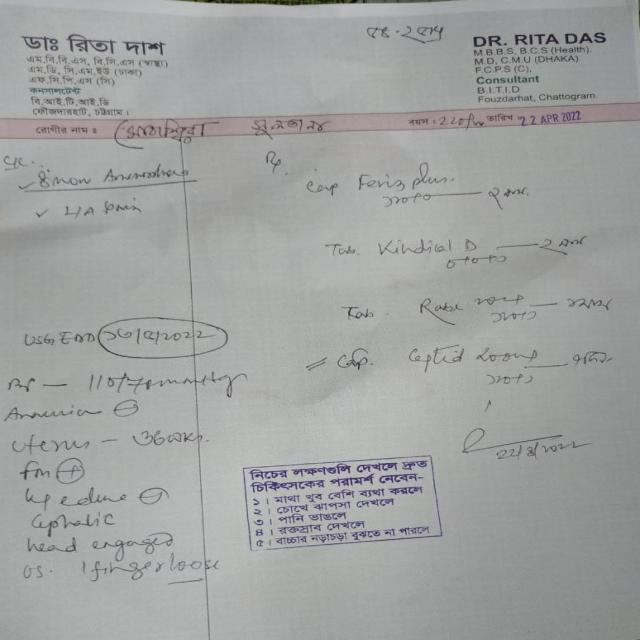Ceftid: (396, 341, 470, 370)
Feviz Plus: (347, 167, 459, 196)
Kindical D: (365, 230, 487, 257)
Rabe: (409, 294, 472, 320)
